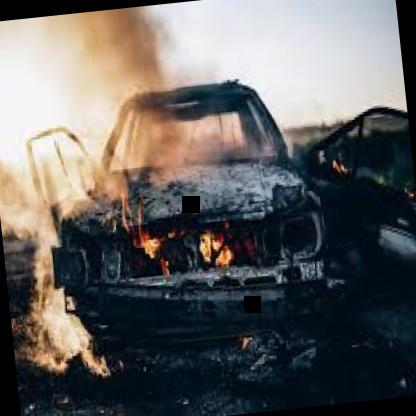fire: (94, 198, 239, 284)
